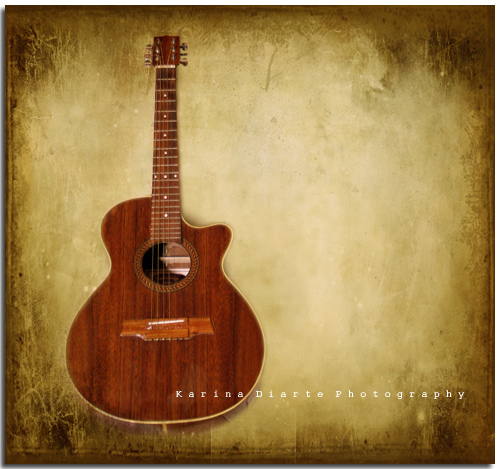guitar: (68, 35, 266, 432)
